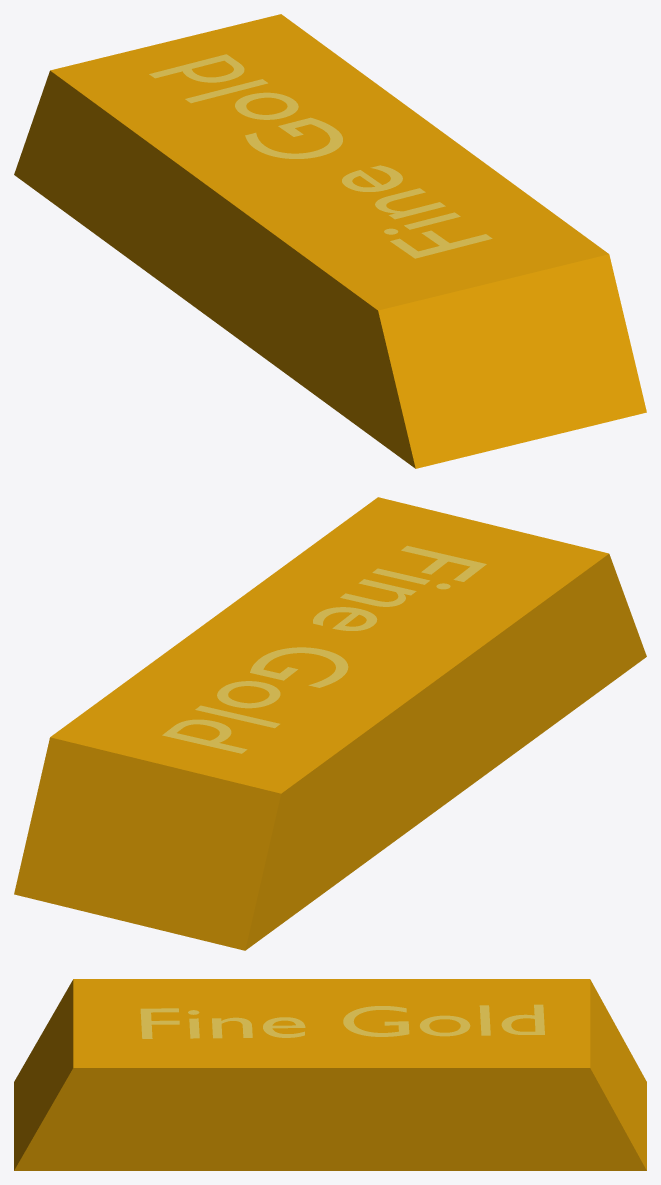
File: Gold.fbx
3 renders of one model, top to bottom at view 1: azimuth 30°, elevation 25°; view 2: azimuth 150°, elevation 25°; view 3: azimuth 270°, elevation 25°, orthographic. The views are drawn at different scales.
Visible parts, largest first — view 1: Cube, Text; view 2: Cube, Text; view 3: Cube, Text.
Part boxes in pixels (<box>): Cube: <box>14,14,646,468</box>; Text: <box>149,54,492,258</box>; Cube: <box>14,497,646,950</box>; Text: <box>162,545,486,753</box>; Cube: <box>14,979,646,1170</box>; Text: <box>140,1004,544,1038</box>.
Size of the model in its own units: 200 by 109 by 602.
